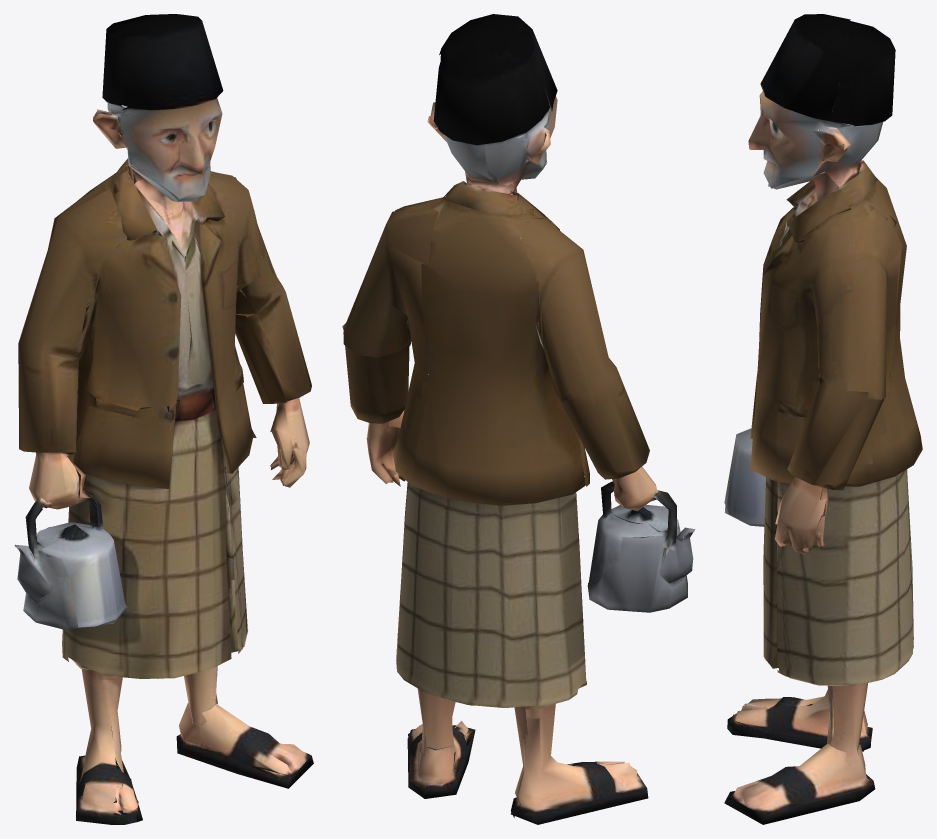
Rendered from npc_abah_aceng.glb.
3 renders of one model, left to right at view 1: azimuth 30°, elevation 25°; view 2: azimuth 150°, elevation 25°; view 3: azimuth 270°, elevation 25°, orthographic. The views are drawn at different scales.
Visible parts, largest first — view 1: torso, leg_r, leg_l; view 2: torso, leg_r, leg_l; view 3: torso, leg_l, leg_r.
Boxes of the visible parts, left/top/right/bottom form: torso: left=18, top=14, right=311, bottom=454; leg_r: left=14, top=398, right=194, bottom=824; leg_l: left=139, top=393, right=313, bottom=788; torso: left=342, top=14, right=649, bottom=472; leg_r: left=446, top=441, right=694, bottom=824; leg_l: left=350, top=402, right=475, bottom=798; torso: left=748, top=14, right=915, bottom=485; leg_l: left=724, top=419, right=922, bottom=824; leg_r: left=724, top=381, right=922, bottom=751.
Size of the model in its own units: 0.6981 by 1.6 by 0.3864.
Materials: 1 (1 with a texture image).
